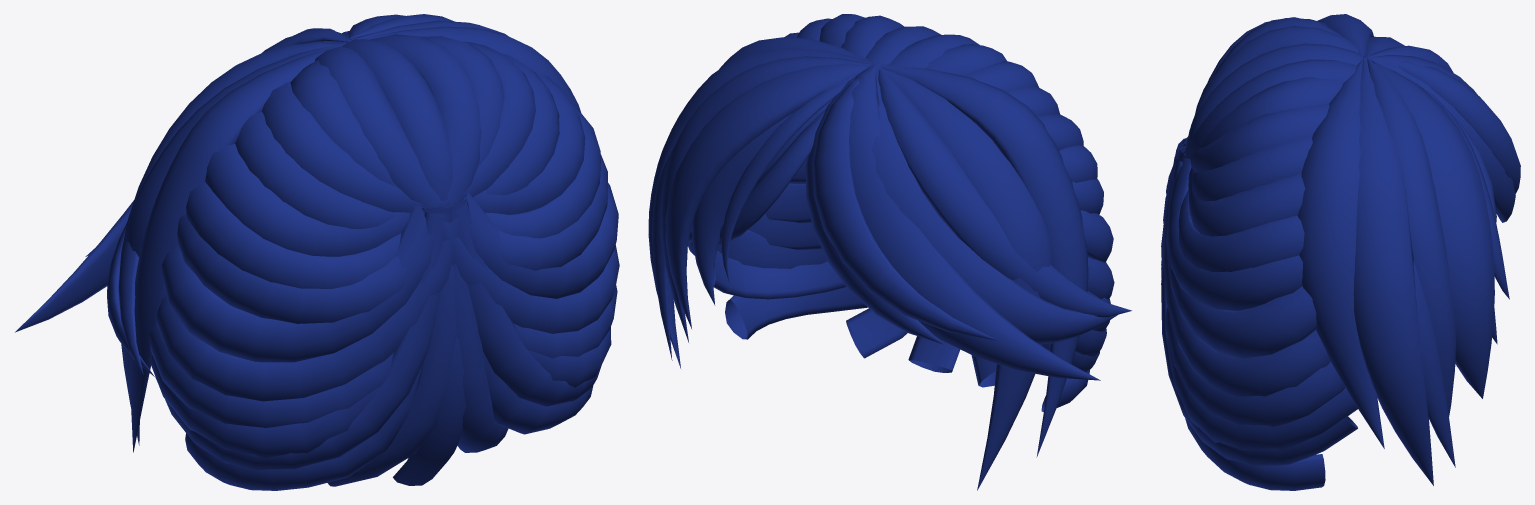
Rendered from doremy_hair.glb.
3 views of the same model, side by side, from view 1: azimuth 30°, elevation 25°; view 2: azimuth 150°, elevation 25°; view 3: azimuth 270°, elevation 25° (orthographic). The views are drawn at different scales.
Parts seen in each view (by area): view 1: doremy_hair; view 2: doremy_hair; view 3: doremy_hair.
Part boxes in pixels (left/top/right/bottom): doremy_hair: left=15, top=14, right=619, bottom=490; doremy_hair: left=648, top=14, right=1131, bottom=490; doremy_hair: left=1161, top=14, right=1520, bottom=490.
Bounding box in the file's own units: 1.87 × 1.41 × 1.15.
